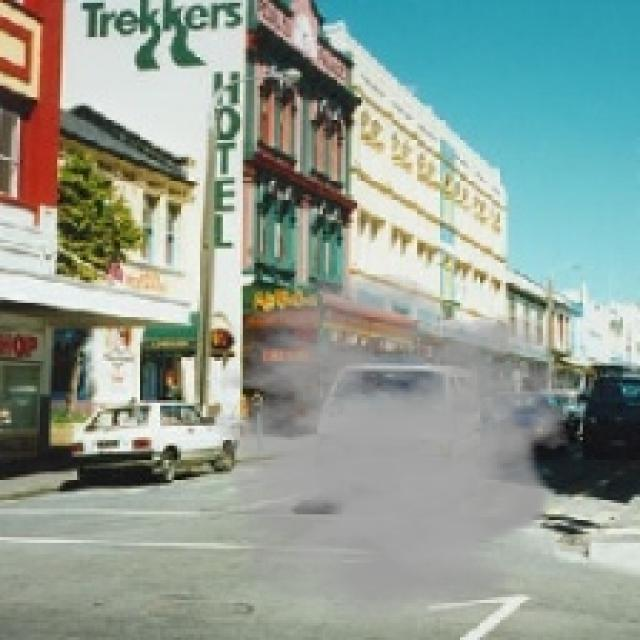smoke: (174, 271, 586, 623)
